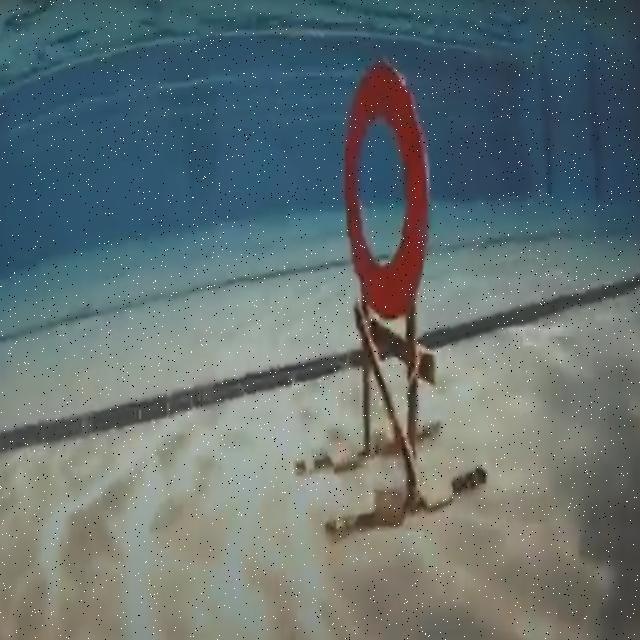Circle: (344, 56, 427, 334)
